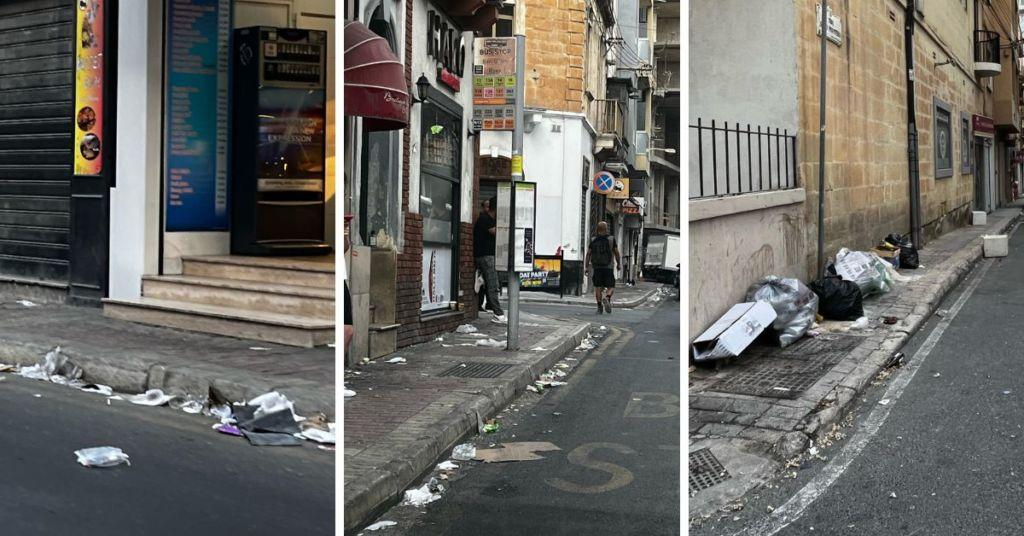trash: (700, 286, 805, 349), (821, 248, 893, 321), (77, 440, 133, 475)
